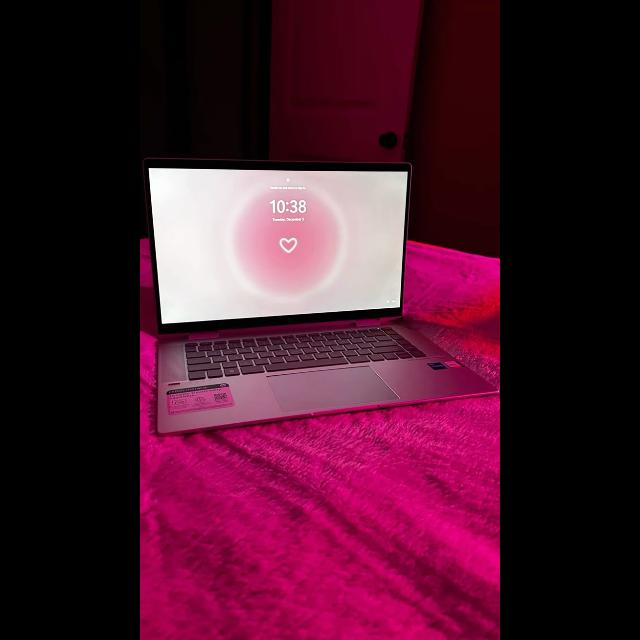laptop: (143, 158, 498, 435)
